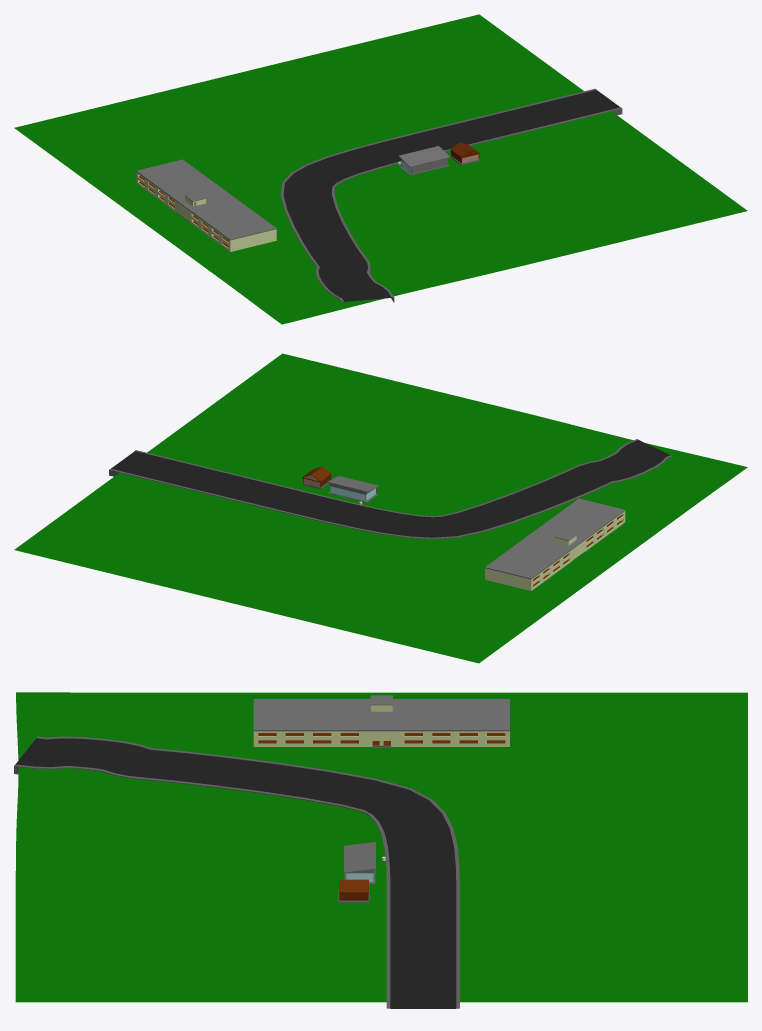
The model's file is WhenTheyCry.fbx.
The picture shows the model from 3 angles, top to bottom: view 1: azimuth 30°, elevation 25°; view 2: azimuth 150°, elevation 25°; view 3: azimuth 270°, elevation 25°; orthographic projection. The views are drawn at different scales.
Parts seen in each view (by area): view 1: Ground, Road, FloorAboveClassrooms, Cube, Classrooms_First, Classrooms; view 2: Ground, Road, FloorAboveClassrooms, Cube, Classrooms_First, Classrooms; view 3: Ground, Road, FloorAboveClassrooms, Classrooms_First, Classrooms, Cube, FloorAboveStairs, BuildingOne.
Boxes of the visible parts, box(x1,y1,x2,y2) form: Ground: box(14, 14, 747, 324); Road: box(280, 88, 622, 302); FloorAboveClassrooms: box(136, 159, 276, 240); Cube: box(398, 146, 450, 175); Classrooms_First: box(136, 178, 276, 251); Classrooms: box(136, 172, 276, 246); Ground: box(14, 353, 747, 663); Road: box(109, 439, 672, 539); FloorAboveClassrooms: box(485, 498, 625, 579); Cube: box(327, 476, 379, 502); Classrooms_First: box(485, 517, 625, 590); Classrooms: box(485, 511, 625, 585); Ground: box(15, 692, 747, 1002); Road: box(14, 736, 459, 1008); FloorAboveClassrooms: box(253, 699, 509, 731); Classrooms_First: box(253, 739, 509, 746); Classrooms: box(253, 731, 509, 738); Cube: box(344, 842, 375, 884); FloorAboveStairs: box(363, 699, 399, 731); BuildingOne: box(338, 879, 369, 902).
Size of the model in its own units: 40089 by 40946 by 2253.
